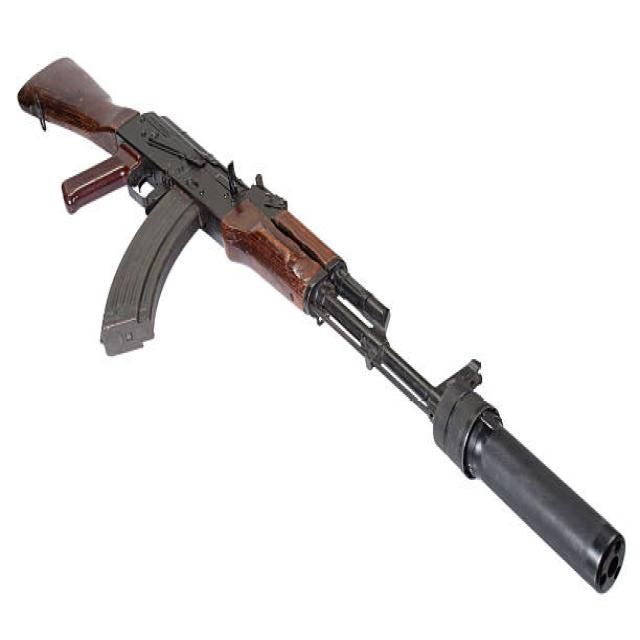rifle: (17, 50, 632, 609)
